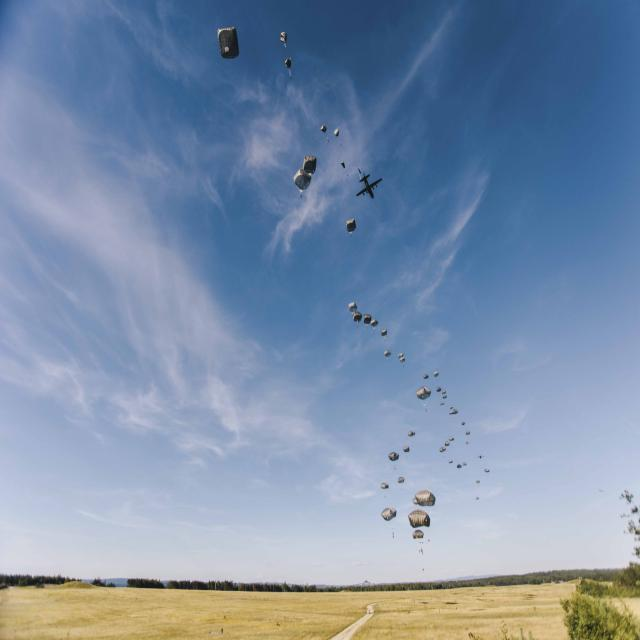MIL_Plane: (353, 172, 379, 199), (475, 454, 485, 459)
